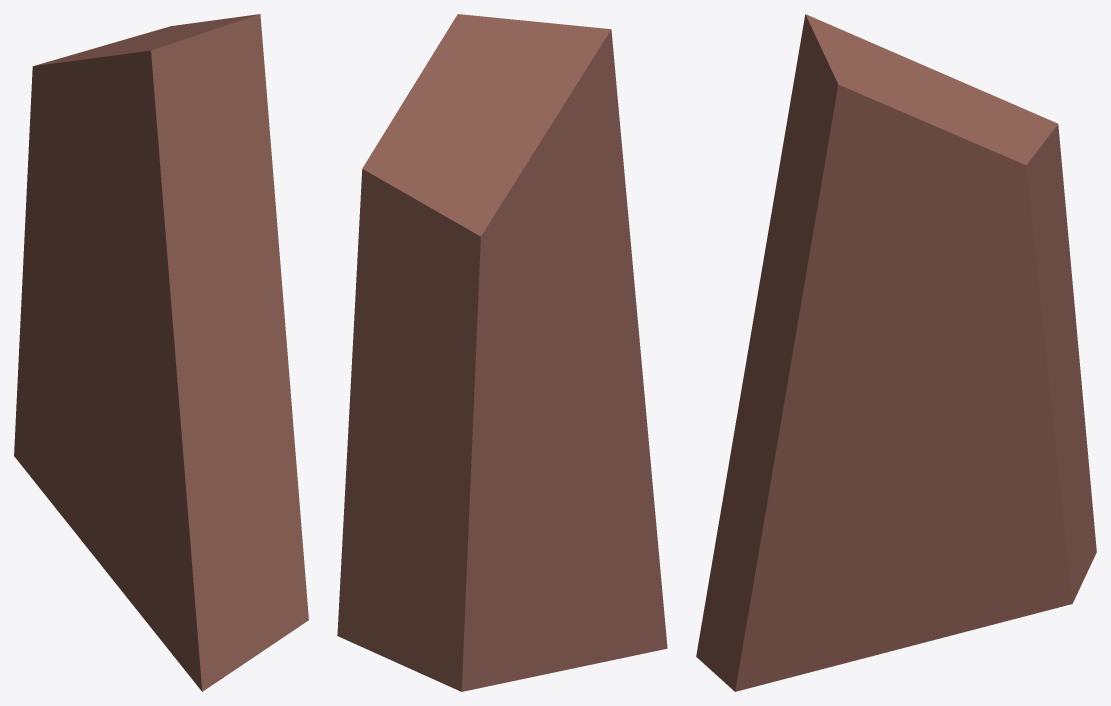
File: T_MurDetruit_7.3.fbx
3 views of the same model, side by side, from view 1: azimuth 30°, elevation 25°; view 2: azimuth 150°, elevation 25°; view 3: azimuth 270°, elevation 25° (orthographic). The views are drawn at different scales.
Visible parts, largest first — view 1: T_MurDetruit_7.3; view 2: T_MurDetruit_7.3; view 3: T_MurDetruit_7.3.
Part boxes in pixels (bbox=[...]): T_MurDetruit_7.3: bbox=[14, 14, 308, 691]; T_MurDetruit_7.3: bbox=[337, 14, 667, 691]; T_MurDetruit_7.3: bbox=[696, 14, 1096, 691].
Size of the model in its own units: 13.48 by 62.21 by 35.16.
